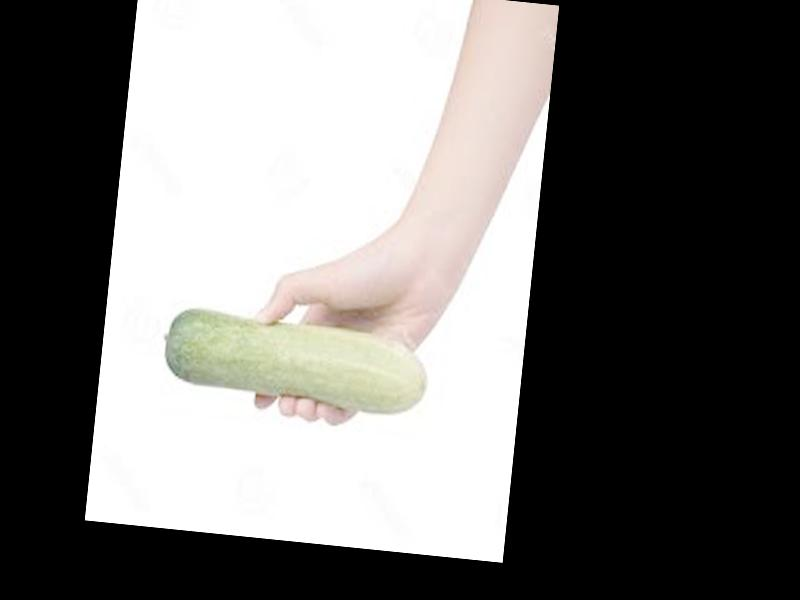Cucumber: (157, 300, 434, 415)
